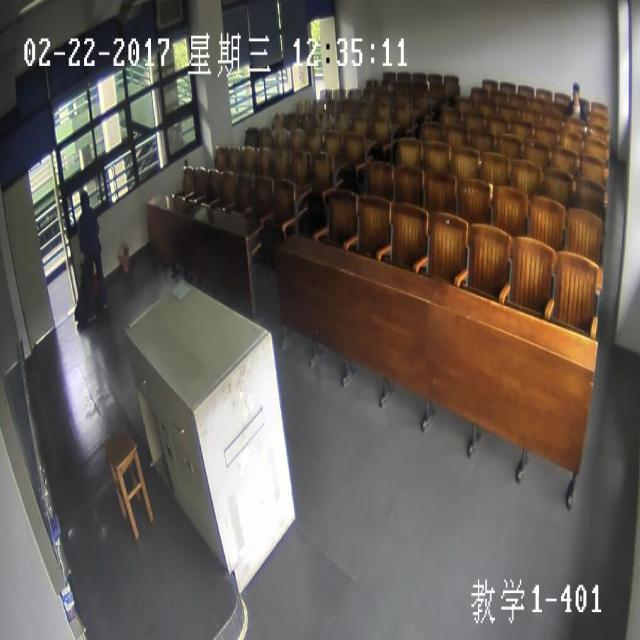person: (570, 82, 580, 105), (79, 190, 89, 212)
